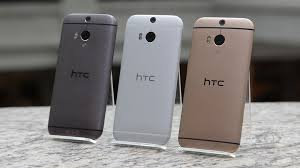htc: (176, 16, 254, 154), (113, 12, 182, 150), (45, 11, 110, 143)
